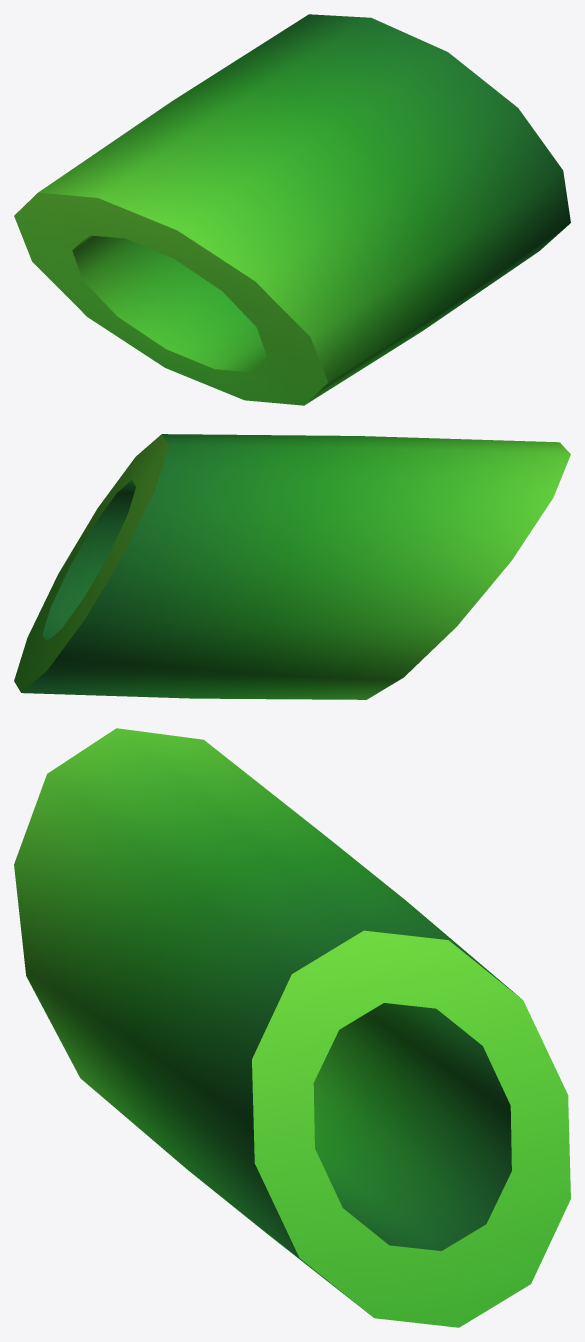
The model's file is Spring_Onion_Slice_02.glb.
3 views of the same model, one above another, from view 1: azimuth 30°, elevation 25°; view 2: azimuth 150°, elevation 25°; view 3: azimuth 270°, elevation 25° (orthographic). The views are drawn at different scales.
Visible parts, largest first — view 1: Spring_Onion_Slice_02; view 2: Spring_Onion_Slice_02; view 3: Spring_Onion_Slice_02.
Part boxes in pixels (x1,y1,x2,y2): Spring_Onion_Slice_02: (14, 14, 570, 405); Spring_Onion_Slice_02: (14, 434, 570, 699); Spring_Onion_Slice_02: (14, 728, 570, 1327).
Bounding box in the file's own units: 0.0864 × 0.0432 × 0.0673.
Materials: 1 (1 with a texture image).
